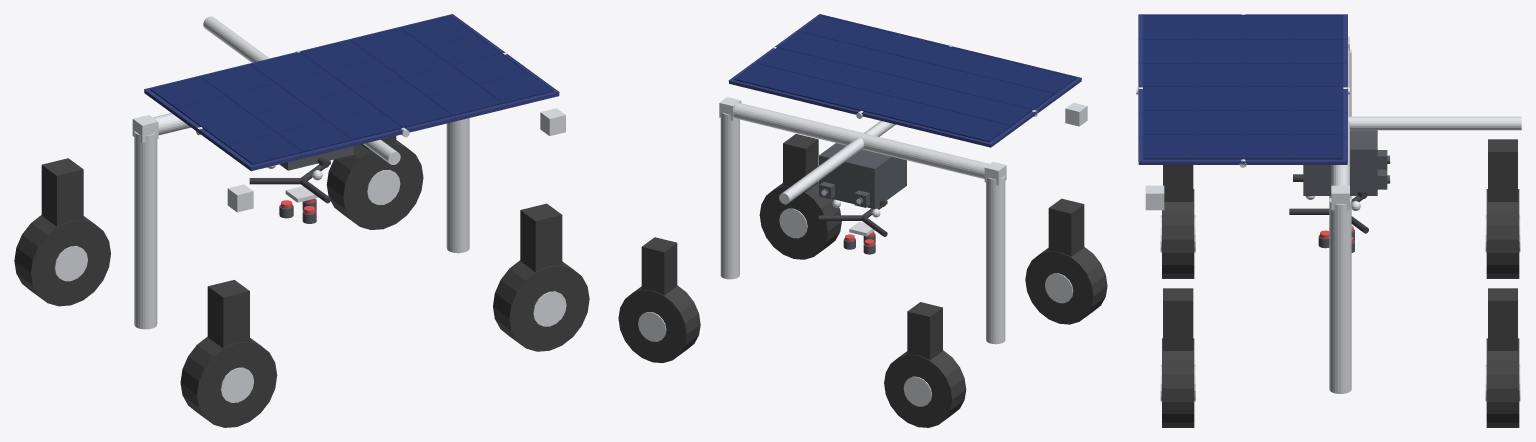
Rendered from microweeder.glb.
3 views of the same model, side by side, from view 1: azimuth 30°, elevation 25°; view 2: azimuth 150°, elevation 25°; view 3: azimuth 270°, elevation 25° (orthographic). The views are drawn at different scales.
Visible parts, largest first — view 1: Solar_Grid_Lines, Portal_Frame, Wheel_Motor_-1_-1, Wheel_Motor_1_1, Wheel_Motor_-1_1, Wheel_Motor_1_-1, Solar_Canopy, Frame_Corner_Joints, Wheel_Hub_1_1, Wheel_Hub_-1_-1, Wheel_Hub_-1_1, Wheel_Hub_1_-1 (+1 smaller); view 2: Solar_Grid_Lines, Portal_Frame, Wheel_Motor_-1_1, Wheel_Motor_1_-1, Wheel_Motor_-1_-1, Wheel_Motor_1_1, Vision_Core, Solar_Canopy, Frame_Corner_Joints, Wheel_Hub_1_1, Wheel_Hub_-1_-1, Wheel_Hub_-1_1 (+1 smaller); view 3: Solar_Grid_Lines, Portal_Frame, Wheel_Motor_-1_-1, Wheel_Motor_1_-1, Wheel_Motor_1_1, Wheel_Motor_-1_1, Solar_Canopy, Vision_Core, Frame_Corner_Joints.
Part boxes in pixels (x1,y1,x2,y2): Solar_Grid_Lines: (150,15,553,164); Portal_Frame: (134,16,469,329); Wheel_Motor_-1_-1: (14,158,110,306); Wheel_Motor_1_1: (493,203,589,351); Wheel_Motor_-1_1: (180,280,277,427); Wheel_Motor_1_-1: (326,136,423,229); Solar_Canopy: (144,14,559,171); Frame_Corner_Joints: (132,108,565,212); Wheel_Hub_1_1: (533,291,566,326); Wheel_Hub_-1_-1: (54,246,87,281); Wheel_Hub_-1_1: (220,367,253,402); Wheel_Hub_1_-1: (367,170,400,204); Solar_Grid_Lines: (734,15,1076,142); Portal_Frame: (720,102,1005,344); Wheel_Motor_-1_1: (1025,198,1107,324); Wheel_Motor_1_-1: (618,237,700,362); Wheel_Motor_-1_-1: (884,302,966,427); Wheel_Motor_1_1: (759,134,841,259); Vision_Core: (819,143,906,209); Solar_Canopy: (728,14,1081,147); Frame_Corner_Joints: (719,97,1087,185); Wheel_Hub_1_1: (779,208,807,238); Wheel_Hub_-1_-1: (903,376,931,406); Wheel_Hub_-1_1: (1045,273,1073,303); Solar_Grid_Lines: (1143,15,1343,159); Portal_Frame: (1329,48,1521,393); Wheel_Motor_-1_-1: (1486,139,1519,278); Wheel_Motor_1_-1: (1486,288,1519,427); Wheel_Motor_1_1: (1162,288,1194,427); Wheel_Motor_-1_1: (1162,165,1194,278); Solar_Canopy: (1138,14,1347,164); Vision_Core: (1303,130,1377,195); Frame_Corner_Joints: (1145,36,1349,210).
Bounding box in the file's own units: 1.91 × 1.25 × 1.66.
